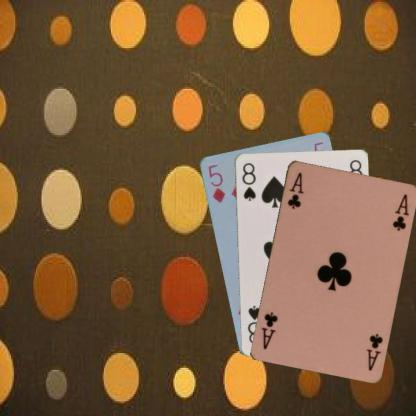5d: (205, 161, 227, 204)
8s: (239, 160, 257, 202)
Ac: (364, 330, 384, 372), (285, 170, 304, 210)
